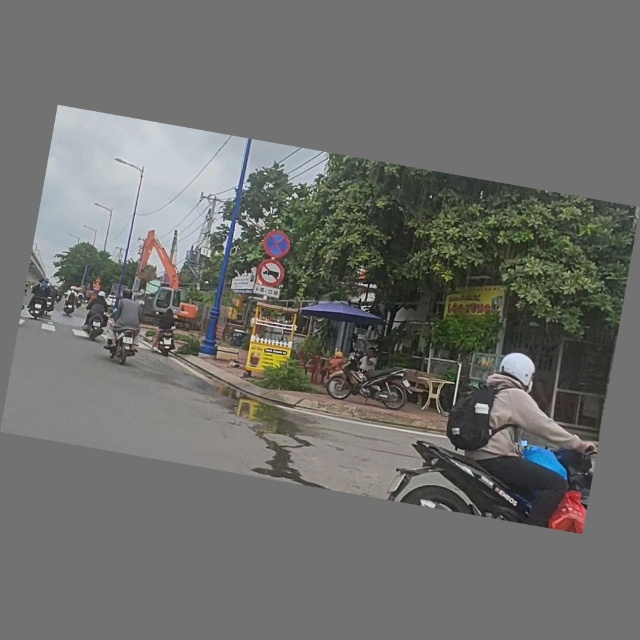B.8a: (256, 259, 287, 290)
P.130: (260, 228, 293, 260)
